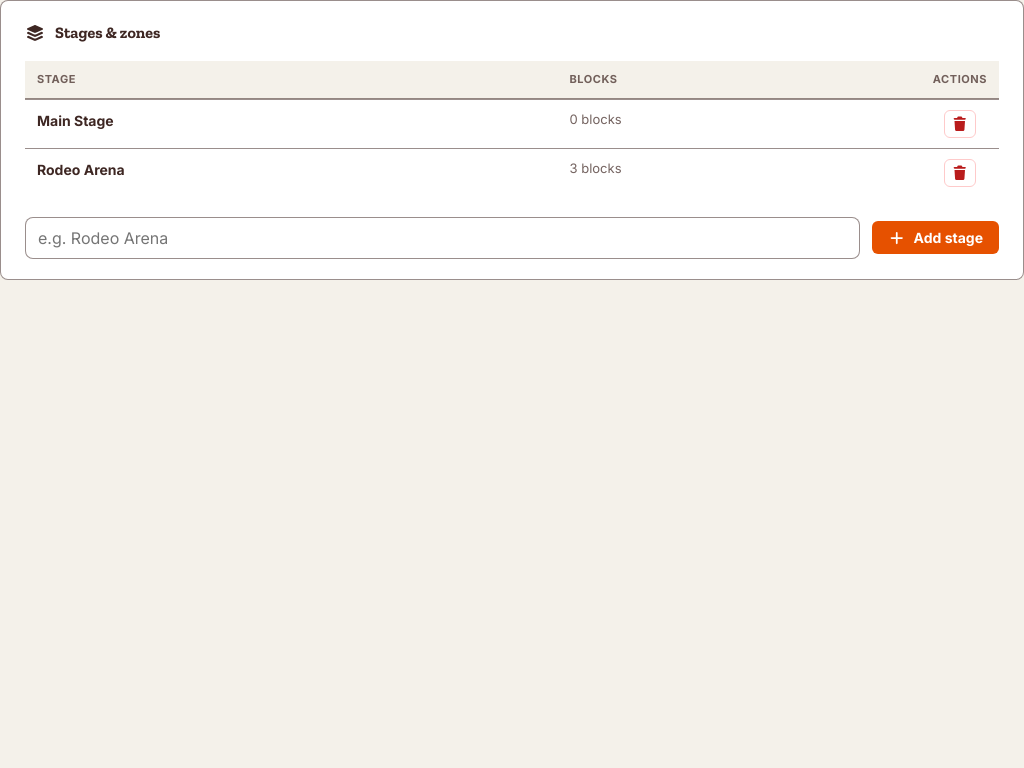
StageManagerPanel › surfaces the server message when a stage delete is rejected
Step 1. Click the button with test id "stage-delete-stage-2" → (960, 172), box [944,158,976,186]
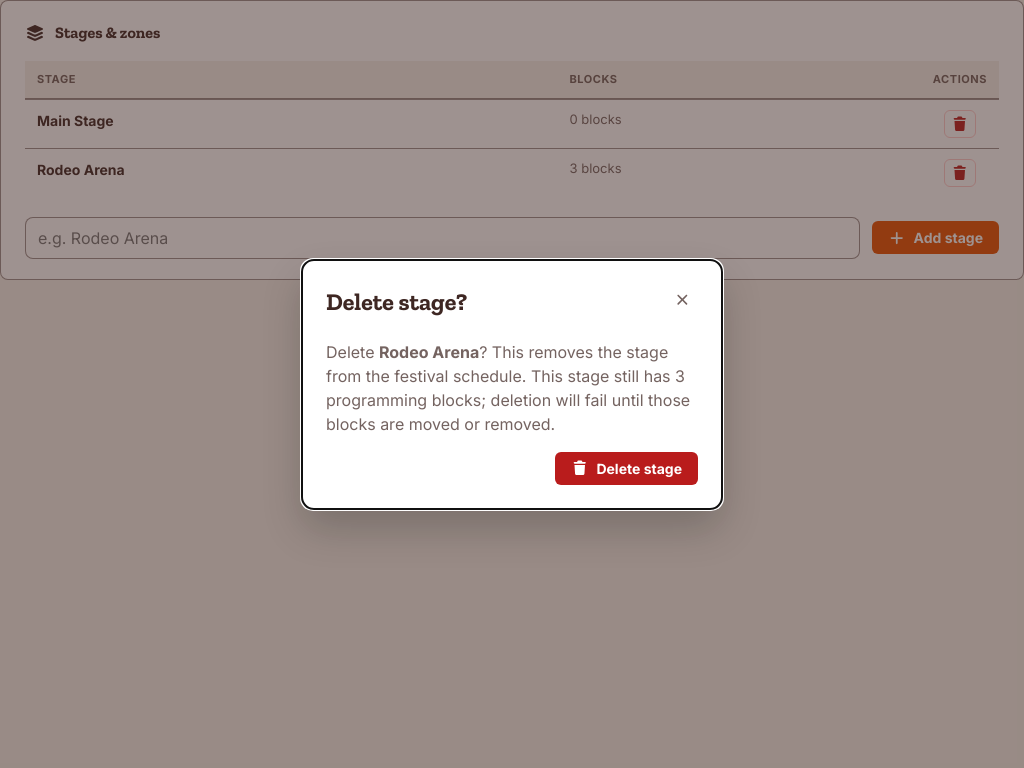
Step 2. Click the button with test id "stage-delete-confirm-button" → (626, 468), box [555,452,698,484]
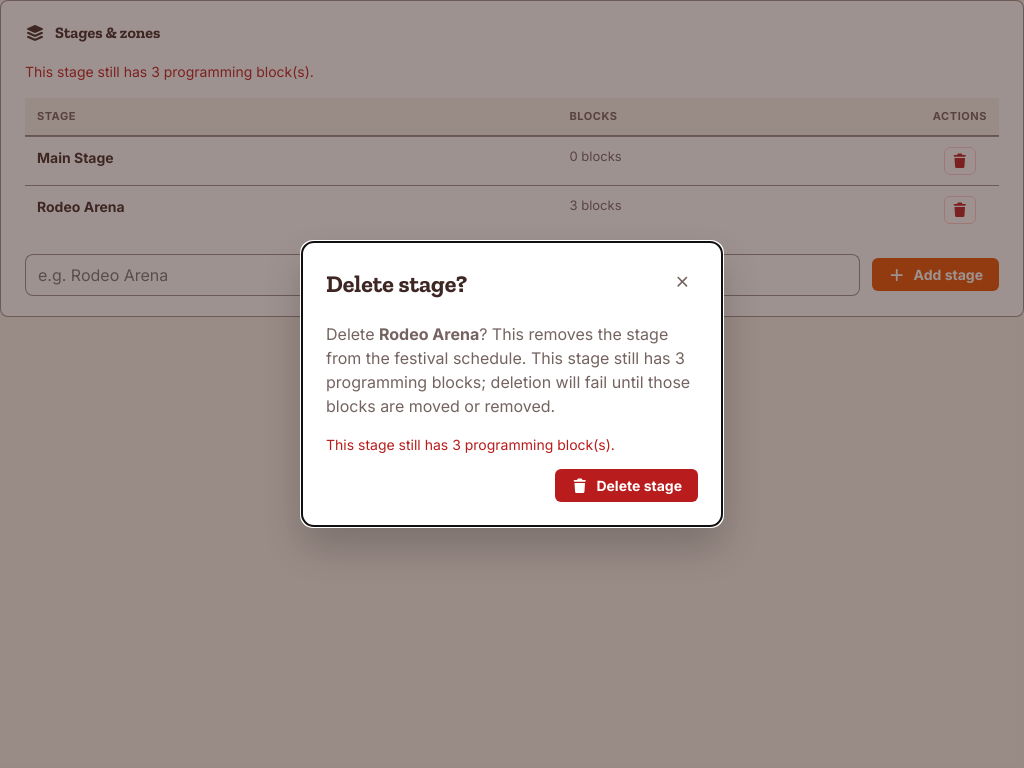
Expected: the dialog with test id "stage-delete-confirm" is shown, [302,242,722,526]
Expected: the message with test id "stage-manager-error" shows "programming block", [25,63,314,80]
